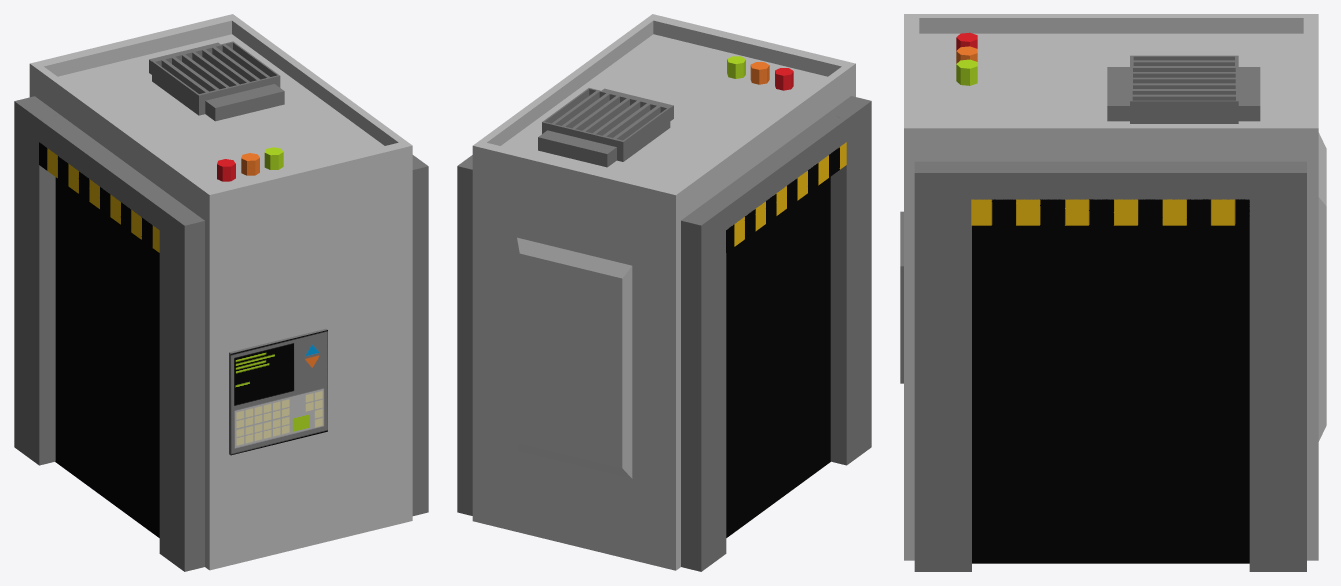
File: Processor1.fbx
3 views of the same model, side by side, from view 1: azimuth 30°, elevation 25°; view 2: azimuth 150°, elevation 25°; view 3: azimuth 270°, elevation 25° (orthographic). The views are drawn at different scales.
Parts seen in each view (by area): view 1: Processor1; view 2: Processor1; view 3: Processor1.
Part boxes in pixels (left/top/right/bottom): Processor1: left=14, top=14, right=428, bottom=571; Processor1: left=457, top=14, right=871, bottom=571; Processor1: left=900, top=14, right=1326, bottom=571.
Size of the model in its own units: 157 by 235 by 206.
